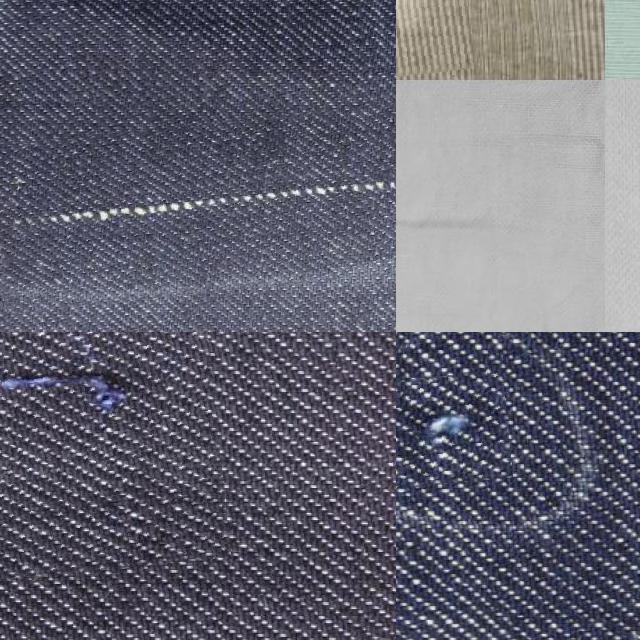Thread_other: (527, 304, 605, 332)
stains: (0, 97, 396, 298), (0, 332, 222, 578), (396, 372, 511, 486)
